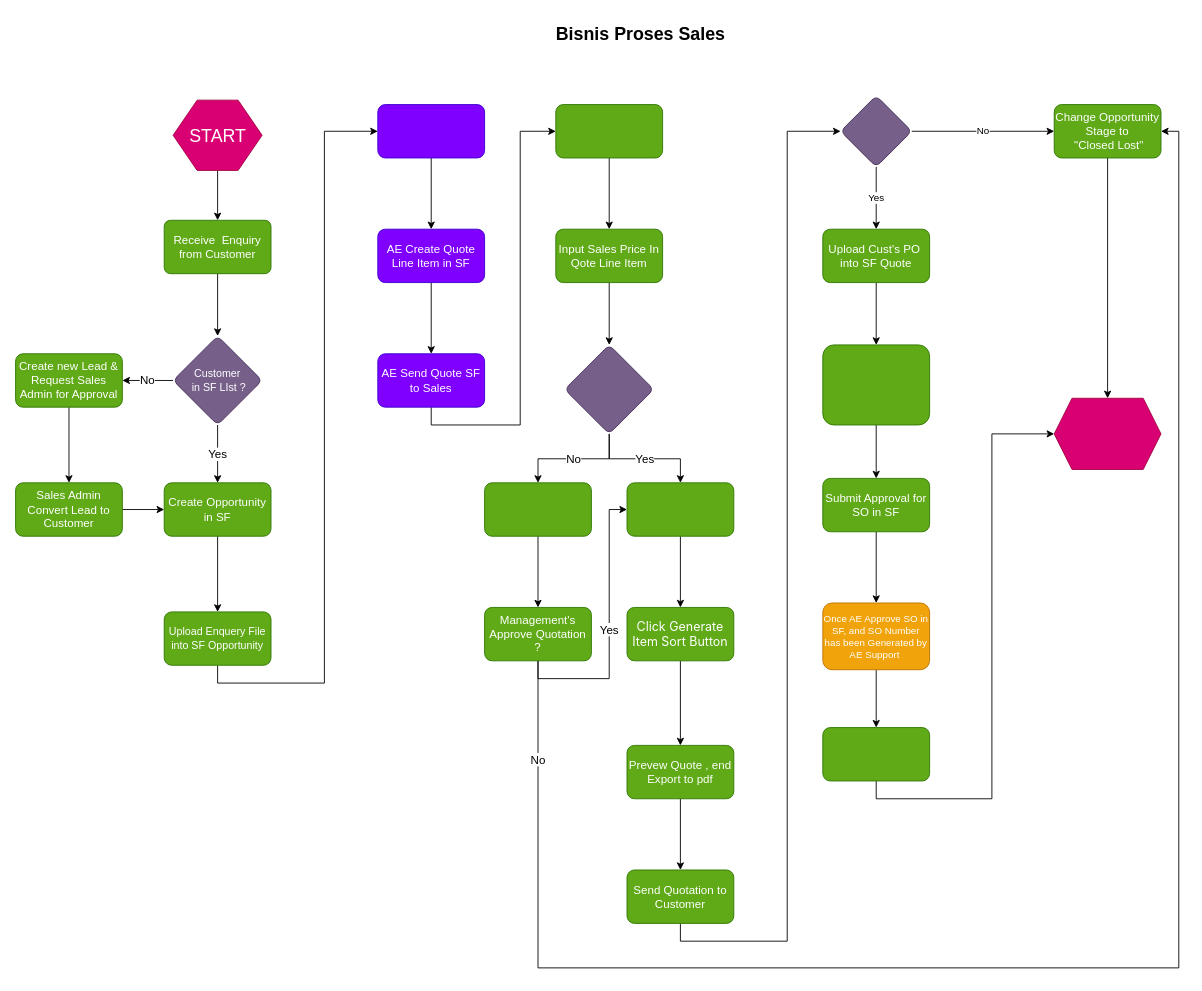
The diagram is 1202 pixels wide and 991 high, and some of its shapes have lost their labels. The centre of each missing label's shape, as x and y in pixels:
AE Create Quote Page in SF: [431,131]
Change Opportunity to "Closed Won ": [876,754]
Deal PO ?: [876,131]
Discount range <=AE Discount ?: [609,389]
FINISH: [1107,433]
Input Cust PO Number & SO Manual Number in SF Quote: [876,384]
Receive Quote SF from AE: [609,131]
Start Sync Quote in SF: [680,509]
Submit Quotetion for Management's Approval in SF: [537,509]
